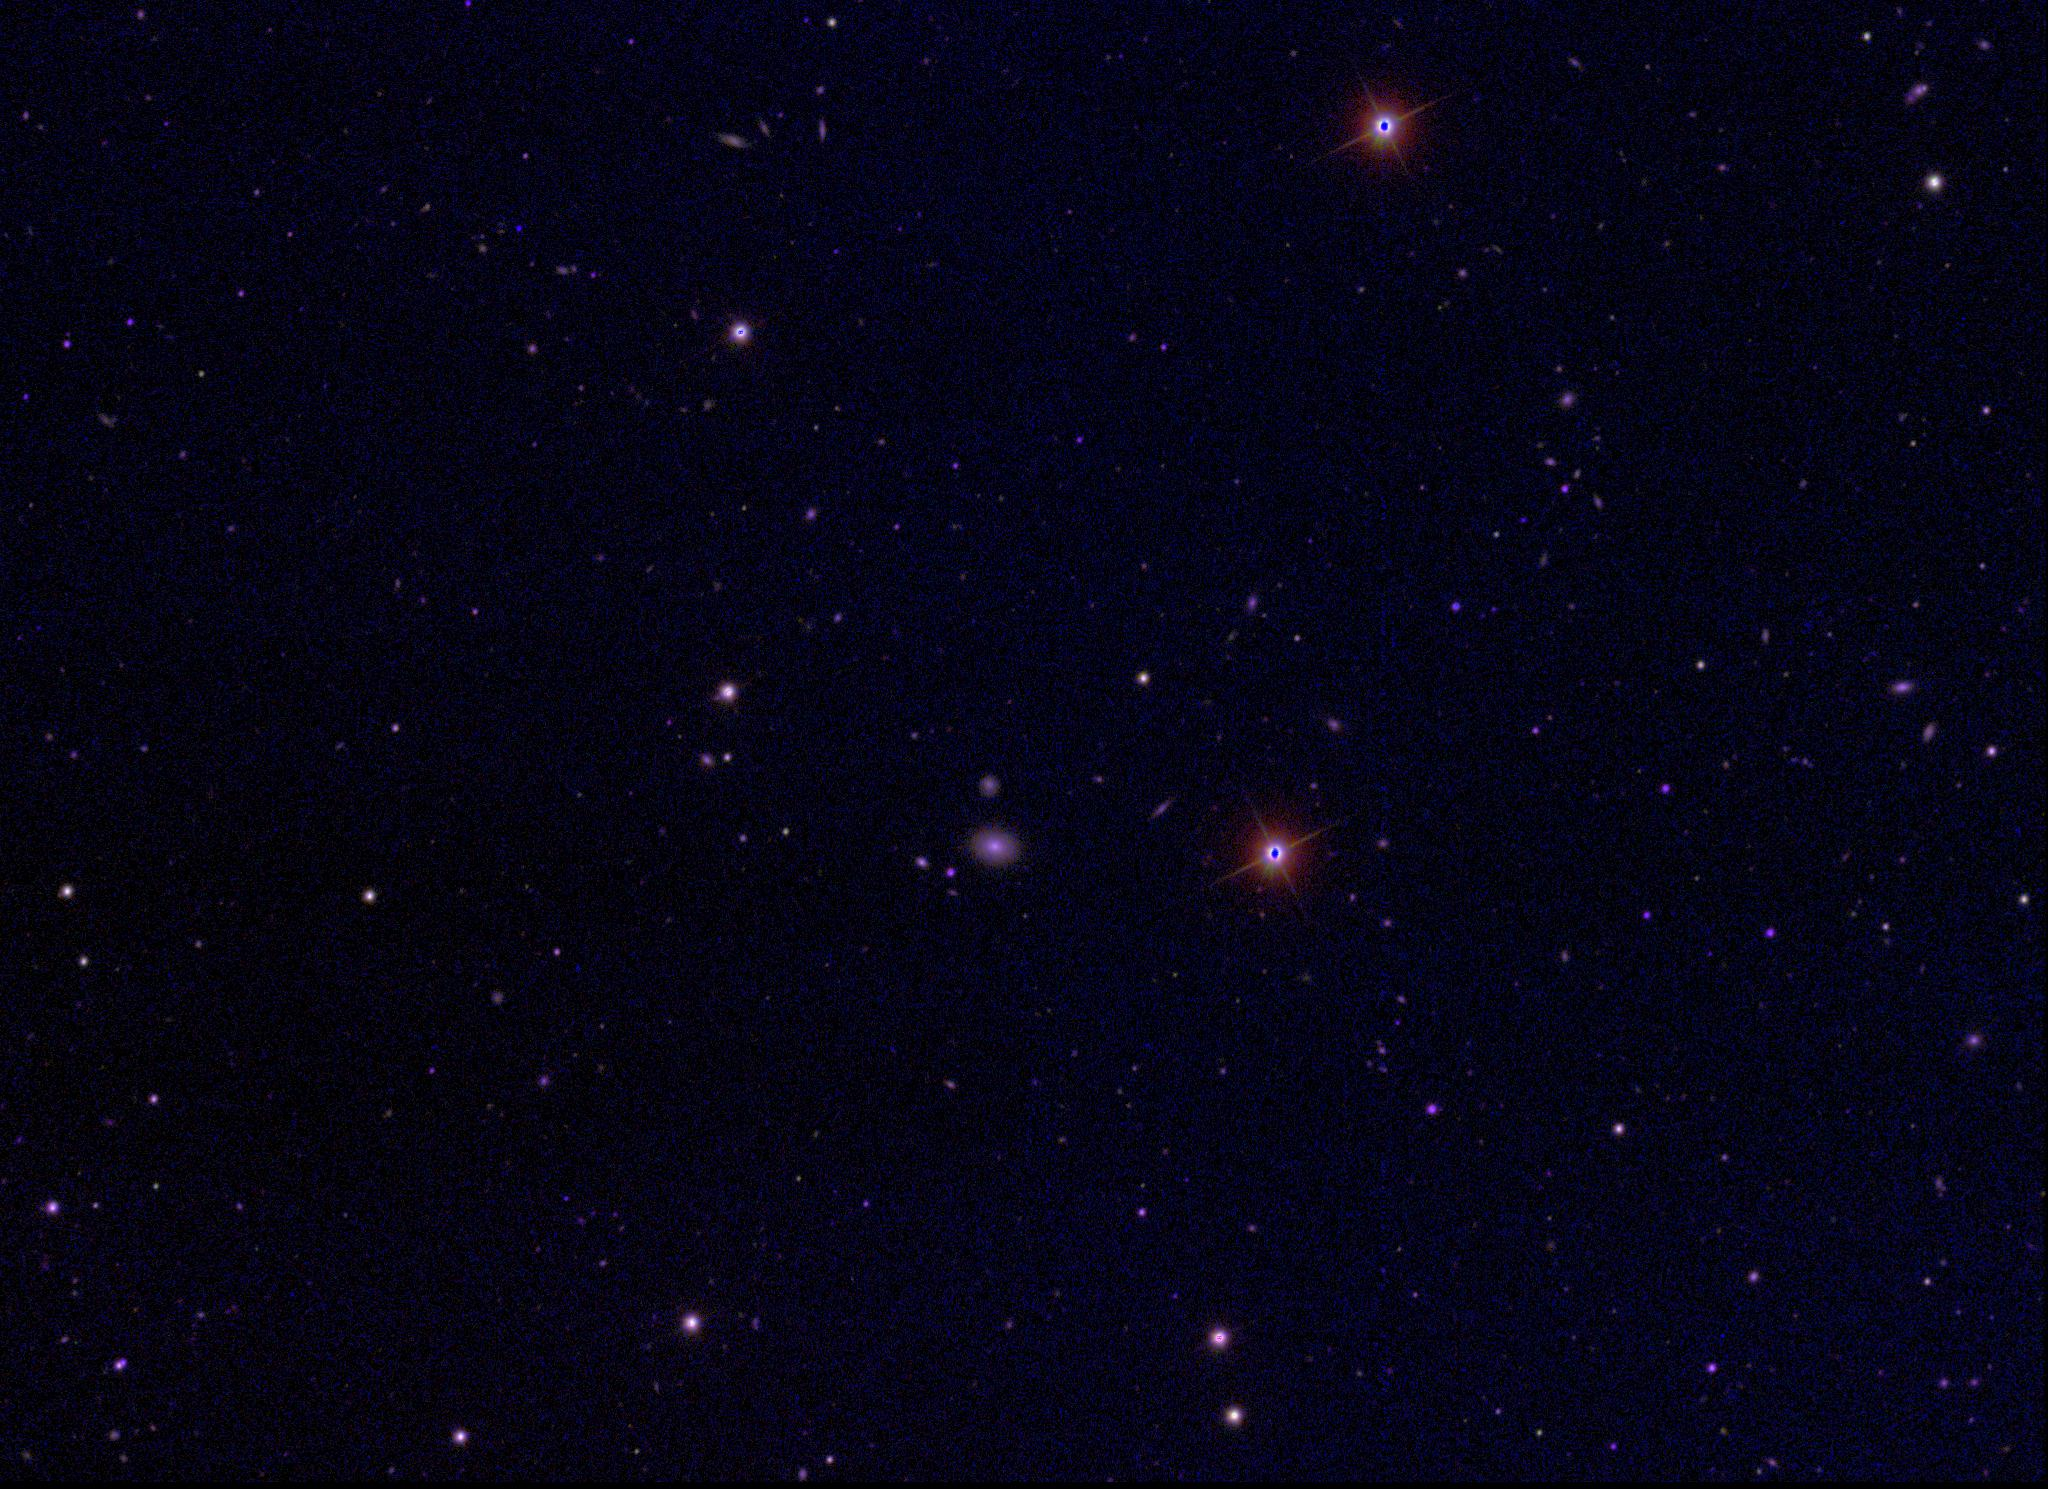L: (510, 220, 525, 232)
